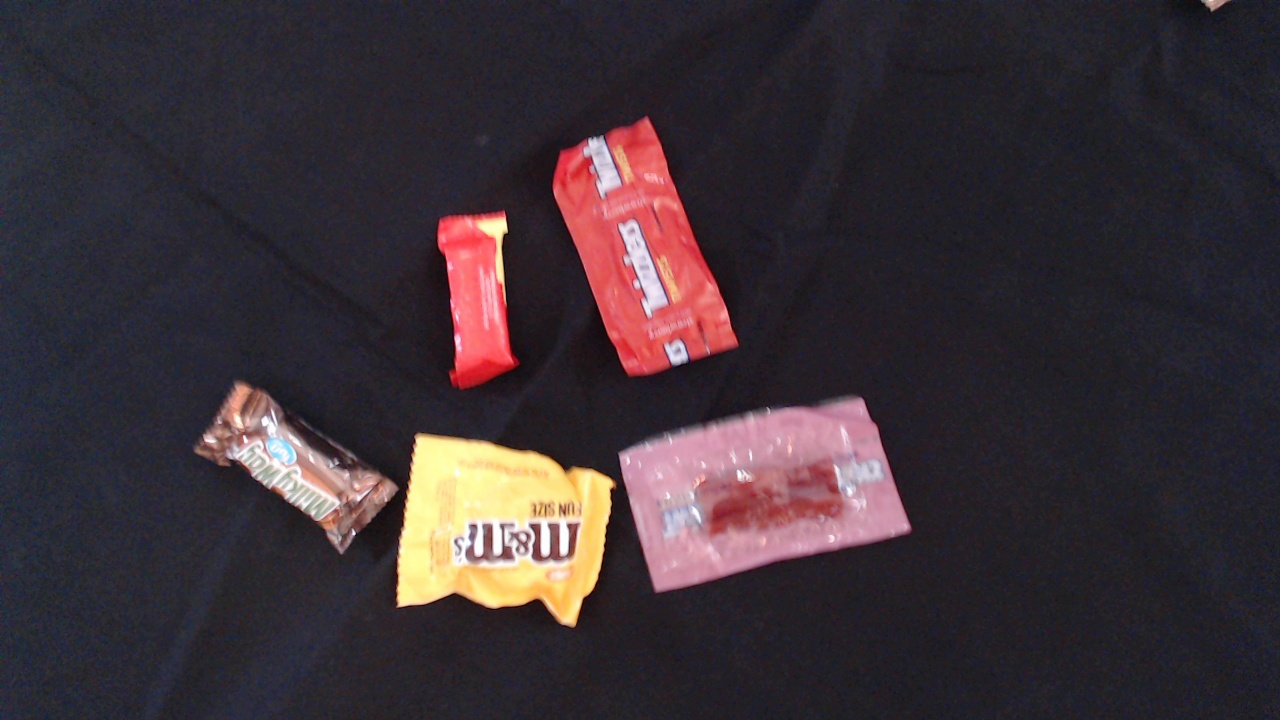MMs_regular: (378, 416, 605, 636)
milky_way: (169, 352, 406, 547)
starbust: (409, 193, 546, 391)
twizzlers: (525, 97, 767, 376), (612, 399, 916, 599)
